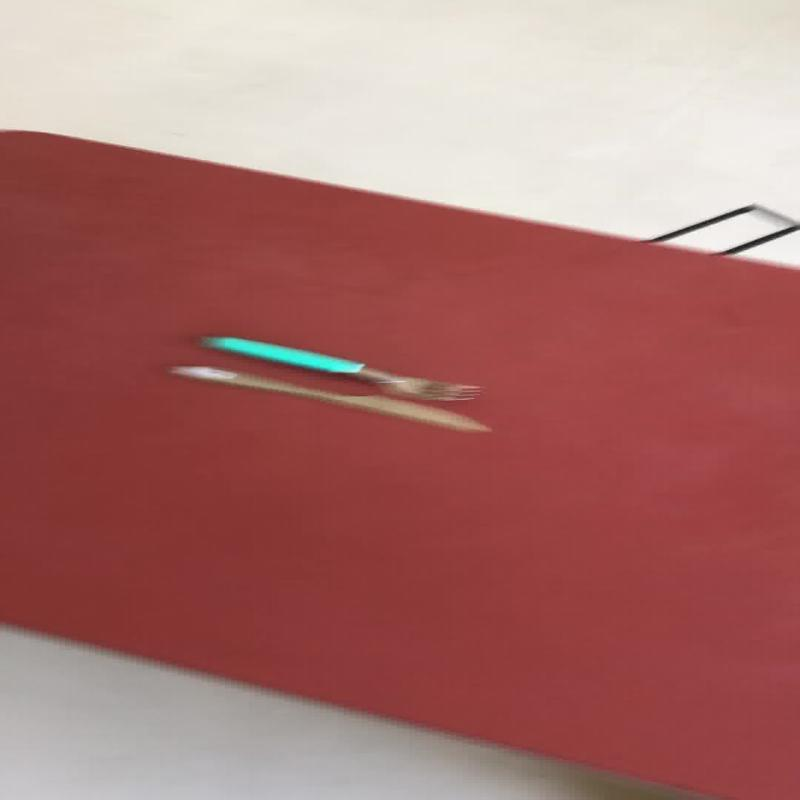fork: (165, 364, 490, 433), (196, 334, 483, 401)
knife: (165, 364, 490, 434), (196, 334, 483, 401)
